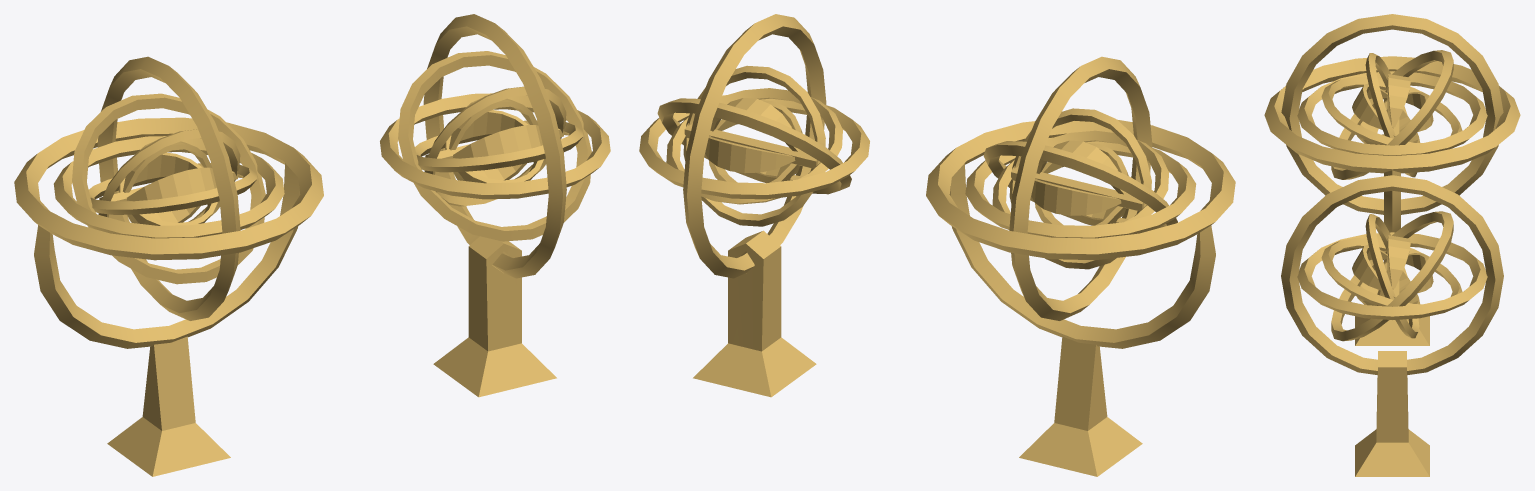
File: esfera amilar.fbx
3 views of the same model, side by side, from view 1: azimuth 30°, elevation 25°; view 2: azimuth 150°, elevation 25°; view 3: azimuth 270°, elevation 25° (orthographic). The views are drawn at different scales.
Visible parts, largest first — view 1: pTorus7, pCube2, pCube1, pTorus8, pTorus5, pTorus6, pTorus9, pTorus12, pTorus2, pTorus1, pSphere2, pSphere1 (+4 smaller); view 2: pTorus7, pCube2, pTorus5, pTorus8, pCube1, pTorus6, pTorus12, pTorus1, pSphere2, pSphere1, pTorus9, pTorus2 (+6 smaller); view 3: pTorus8, pTorus5, pTorus7, pCube2, pTorus12, pTorus1, pTorus9, pTorus2, pSphere2, pSphere1, pTorus10, pTorus3 (+4 smaller).
Part boxes in pixels (<box>): pTorus7: <box>14,117,323,260</box>; pCube2: <box>433,236,556,397</box>; pCube1: <box>107,336,230,476</box>; pTorus8: <box>423,14,566,278</box>; pTorus5: <box>97,56,240,320</box>; pTorus6: <box>34,163,300,348</box>; pTorus9: <box>398,51,591,241</box>; pTorus12: <box>380,93,610,199</box>; pTorus2: <box>72,93,265,284</box>; pTorus1: <box>53,136,284,238</box>; pSphere2: <box>445,98,543,183</box>; pSphere1: <box>119,141,217,225</box>; pTorus7: <box>926,119,1235,260</box>; pCube2: <box>693,230,816,397</box>; pTorus5: <box>1009,56,1152,320</box>; pTorus8: <box>683,14,826,278</box>; pCube1: <box>1019,336,1142,476</box>; pTorus6: <box>949,163,1215,348</box>; pTorus12: <box>639,95,869,199</box>; pTorus1: <box>965,137,1196,238</box>; pSphere2: <box>705,98,802,182</box>; pSphere1: <box>1031,140,1128,225</box>; pTorus9: <box>657,98,851,194</box>; pTorus2: <box>983,141,1177,228</box>; pTorus8: <box>1281,175,1503,374</box>; pTorus5: <box>1281,14,1503,214</box>; pTorus7: <box>1264,56,1520,173</box>; pCube2: <box>1355,351,1429,476</box>; pTorus12: <box>1297,232,1487,319</box>; pTorus1: <box>1297,71,1487,155</box>; pTorus9: <box>1331,211,1453,341</box>; pTorus2: <box>1331,50,1453,179</box>; pSphere2: <box>1352,235,1433,305</box>; pSphere1: <box>1352,74,1433,144</box>; pTorus10: <box>1321,238,1462,306</box>; pTorus3: <box>1321,76,1462,145</box>.
Size of the model in its own units: 71.61 by 46.85 by 34.38.
1 material, 1 textured.
